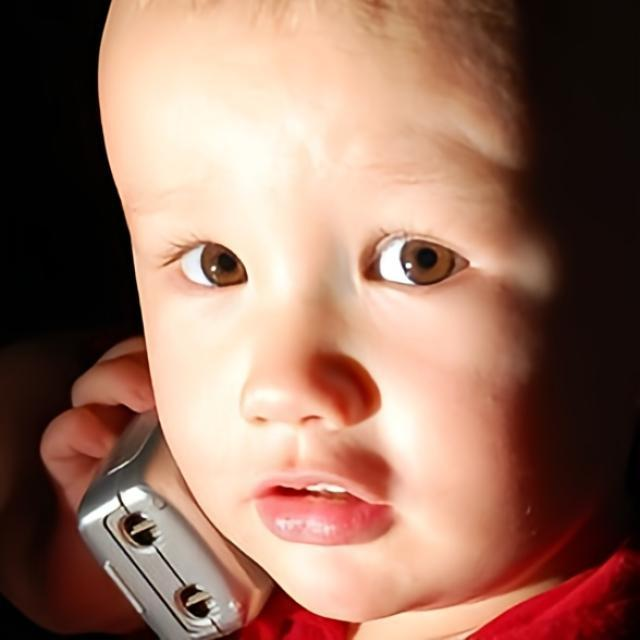fear: (95, 0, 638, 623)
